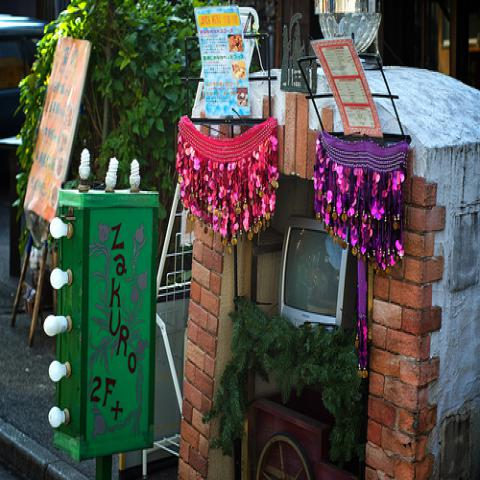car: (0, 14, 49, 139)
